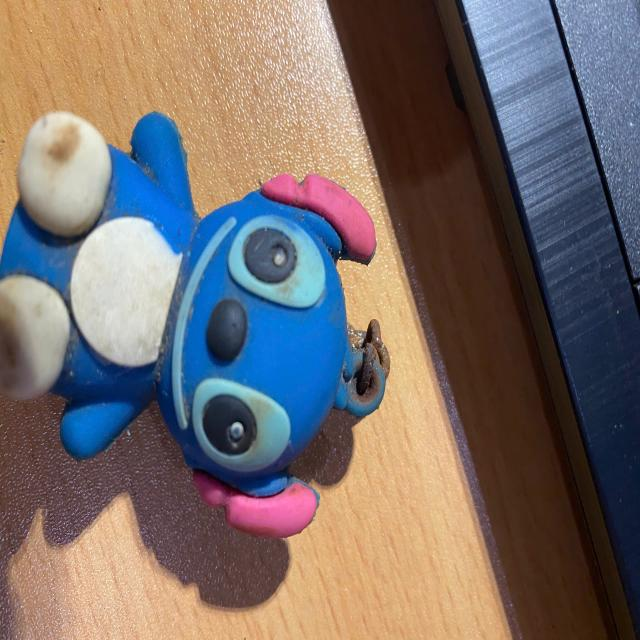stick: (1, 108, 390, 540)
